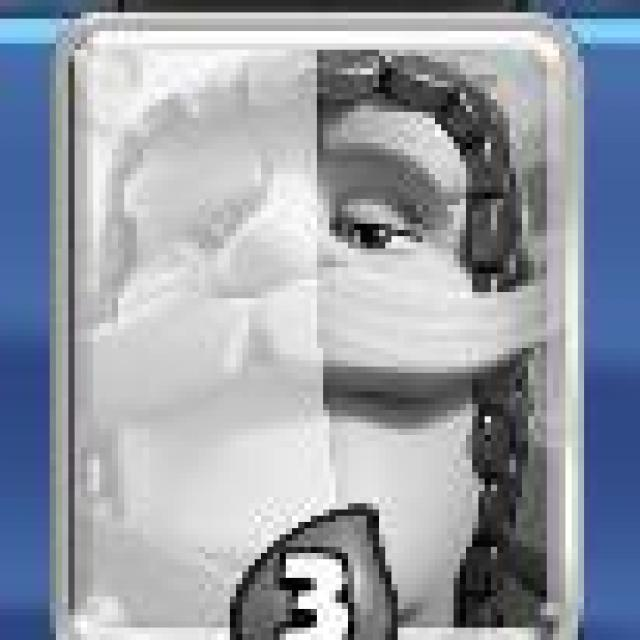Knight: (55, 12, 588, 640)
